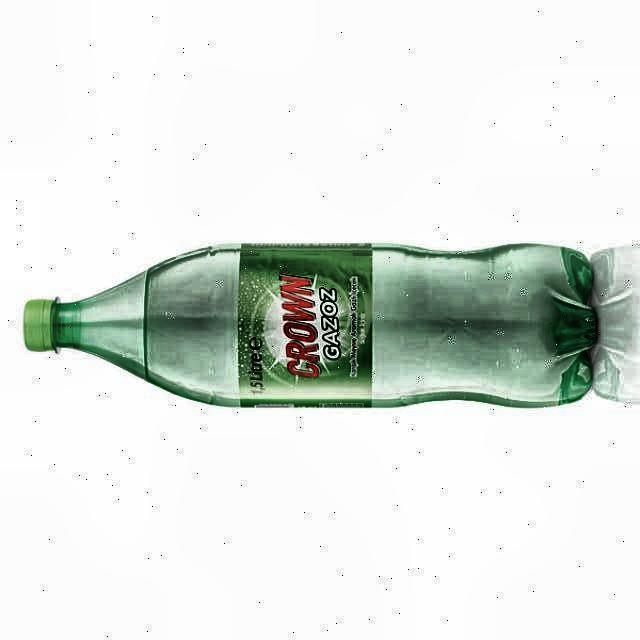plastic: (25, 244, 598, 406)
